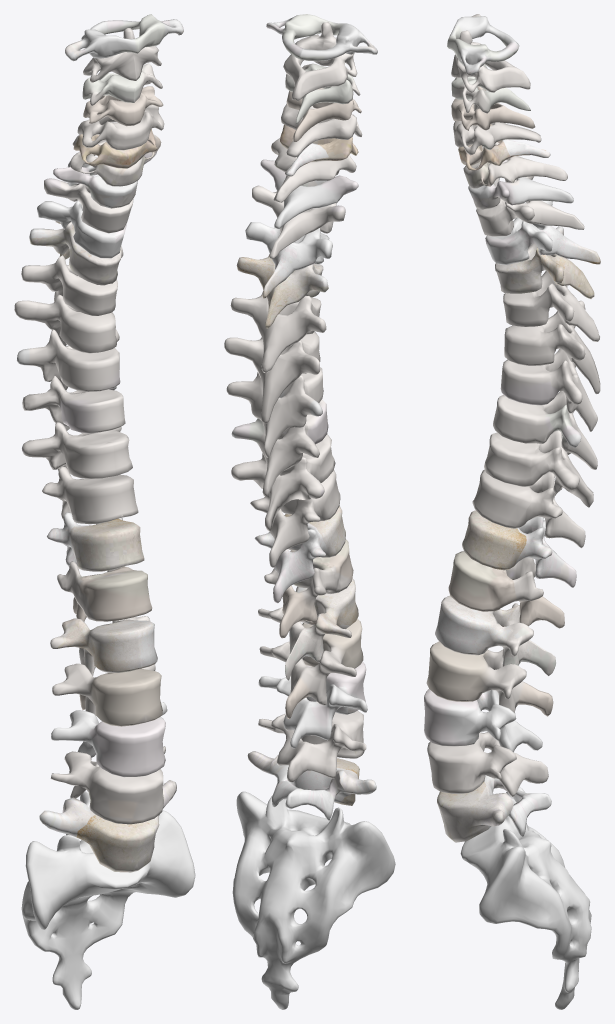
File: bones_texture.glb
3 renders of one model, left to right at view 1: azimuth 30°, elevation 25°; view 2: azimuth 150°, elevation 25°; view 3: azimuth 270°, elevation 25°, orthographic. The views are drawn at different scales.
Parts seen in each view (by area): view 1: Sacrum, L5, L3, L2, L4, L1, T9, T12, T11, T7, T10, T8 (+13 smaller); view 2: Sacrum, L5, L4, L2, L3, L1, T7, T9, T6, T5, T11, T12 (+13 smaller); view 3: Sacrum, L2, L1, T12, L4, L3, T11, T10, T9, L5, T8, T7 (+13 smaller).
Boxes of the visible parts, <box> form: Sacrum: <box>21,810,195,1009</box>; L5: <box>39,780,176,872</box>; L3: <box>51,702,167,777</box>; L2: <box>52,663,162,726</box>; L4: <box>50,746,165,824</box>; L1: <box>50,616,157,675</box>; T9: <box>22,422,132,478</box>; T12: <box>57,561,152,621</box>; T11: <box>47,512,144,571</box>; T7: <box>17,329,120,391</box>; T10: <box>42,466,138,524</box>; T8: <box>22,376,125,433</box>; Sacrum: <box>232,791,395,1009</box>; L5: <box>247,751,376,820</box>; L4: <box>258,710,366,782</box>; L2: <box>259,619,363,719</box>; L3: <box>258,662,367,748</box>; L1: <box>258,578,358,680</box>; T7: <box>226,367,323,457</box>; T9: <box>231,434,335,531</box>; T6: <box>224,332,320,423</box>; T5: <box>230,291,326,372</box>; T11: <box>254,506,345,603</box>; T12: <box>264,539,353,638</box>; Sacrum: <box>460,787,591,1009</box>; L2: <box>426,641,553,716</box>; L1: <box>435,595,555,676</box>; T12: <box>448,551,564,628</box>; L4: <box>427,732,548,797</box>; L3: <box>424,689,542,752</box>; T11: <box>462,510,576,587</box>; T10: <box>472,469,585,548</box>; T9: <box>484,430,593,507</box>; L5: <box>437,775,551,842</box>; T8: <box>493,391,597,469</box>; T7: <box>500,348,597,431</box>.
Size of the model in its own units: 89.06 by 540 by 88.15.
Materials: 1 (1 with a texture image).
